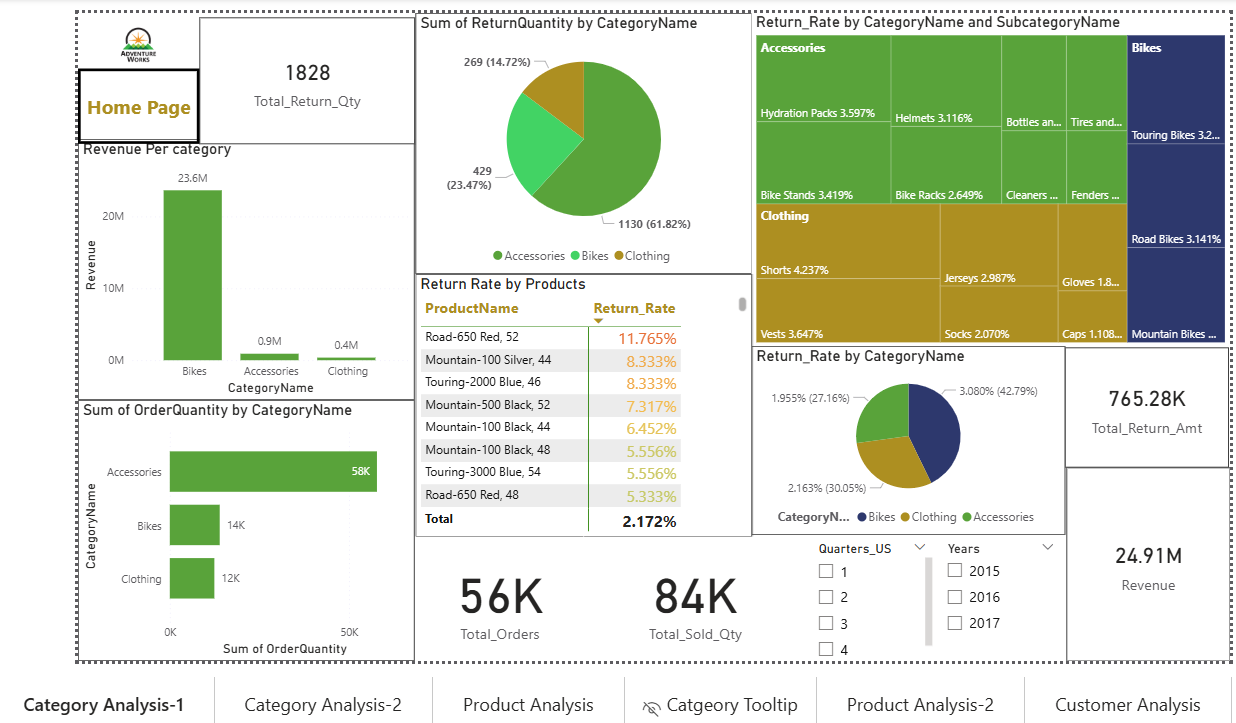

What the dashboard file says about the page in this screenshot:
{"tool":"powerbi","page":{"name":"Category Analysis-1","canvas":[1280,720],"ordinal":2},"visuals":[{"type":"clusteredColumnChart","title":"Revenue Per category","fields":{"Category":["Categories.CategoryName"],"Y":["Sales.Revenue"]},"box":[0,140.6,374.2,289.8],"z":0},{"type":"clusteredBarChart","fields":{"Category":["Categories.CategoryName"],"Y":["Sum(Sales.OrderQuantity)"]},"box":[0,430.4,374.2,289.8],"z":1000},{"type":"pieChart","fields":{"Category":["Categories.CategoryName"],"Y":["Sum(Returns.ReturnQuantity)"]},"box":[374.2,0,374.2,289.8],"z":2000},{"type":"treemap","fields":{"Group":["Categories.CategoryName"],"Values":["Returns.Return_Rate"],"Details":["Subcategories.SubcategoryName"]},"box":[748.8,0,531.2,371.2],"z":3000},{"type":"pieChart","fields":{"Category":["Categories.CategoryName"],"Y":["Returns.Return_Rate"]},"box":[748.8,370,348.8,210],"z":4000},{"type":"card","fields":{"Values":["Returns.Total_Return_Qty"]},"box":[134.5,0,239.7,140.6],"z":5000},{"type":"card","fields":{"Values":["Returns.Total_Return_Amt"]},"box":[1096.9,371.7,182.2,133.3],"z":6000},{"type":"card","fields":{"Values":["Sales.Revenue"]},"box":[1098.1,505,182.2,215.2],"z":7000},{"type":"pivotTable","title":"Return Rate by Products","fields":{"Rows":["Products.ProductName"],"Values":["Returns.Return_Rate"]},"box":[374.2,289.8,374.2,292.3],"z":8000},{"type":"slicer","fields":{"Values":["Calendar.Dates.Years"]},"box":[953.8,582.1,143.1,138.2],"z":9000},{"type":"slicer","fields":{"Values":["Calendar.Dates.Quarters_US"]},"box":[809.5,582.1,144.3,138.2],"z":10000},{"type":"image","box":[0,0,135,53.8],"z":11000},{"type":"card","fields":{"Values":["Sales.Total_Orders"]},"box":[374.2,582.1,187.1,138.2],"z":12000},{"type":"card","fields":{"Values":["Sales.Total_Sold_Qty"]},"box":[561.3,582.1,248.2,138.2],"z":13000},{"type":"actionButton","box":[0,61.2,135,83.8],"z":14000}]}

Visuals, with their boxes on the page's 1280x720 design canvas (x1, y1, x2, y2). These are canvas units, not pixel positions in the 1236x723 screenshot, which may show the page scaled, cropped or inside an application window:
"Revenue Per category" clusteredColumnChart: crop(0, 141, 374, 430)
clusteredBarChart - Categories.CategoryName x Sum(Sales.OrderQuantity): crop(0, 430, 374, 720)
pieChart - Categories.CategoryName x Sum(Returns.ReturnQuantity): crop(374, 0, 748, 290)
treemap - Categories.CategoryName x Returns.Return_Rate: crop(749, 0, 1280, 371)
pieChart - Categories.CategoryName x Returns.Return_Rate: crop(749, 370, 1098, 580)
card - Returns.Total_Return_Qty: crop(134, 0, 374, 141)
card - Returns.Total_Return_Amt: crop(1097, 372, 1279, 505)
card - Sales.Revenue: crop(1098, 505, 1280, 720)
"Return Rate by Products" pivotTable: crop(374, 290, 748, 582)
slicer - Calendar.Dates.Years: crop(954, 582, 1097, 720)
slicer - Calendar.Dates.Quarters_US: crop(810, 582, 954, 720)
image: crop(0, 0, 135, 54)
card - Sales.Total_Orders: crop(374, 582, 561, 720)
card - Sales.Total_Sold_Qty: crop(561, 582, 810, 720)
actionButton: crop(0, 61, 135, 145)
